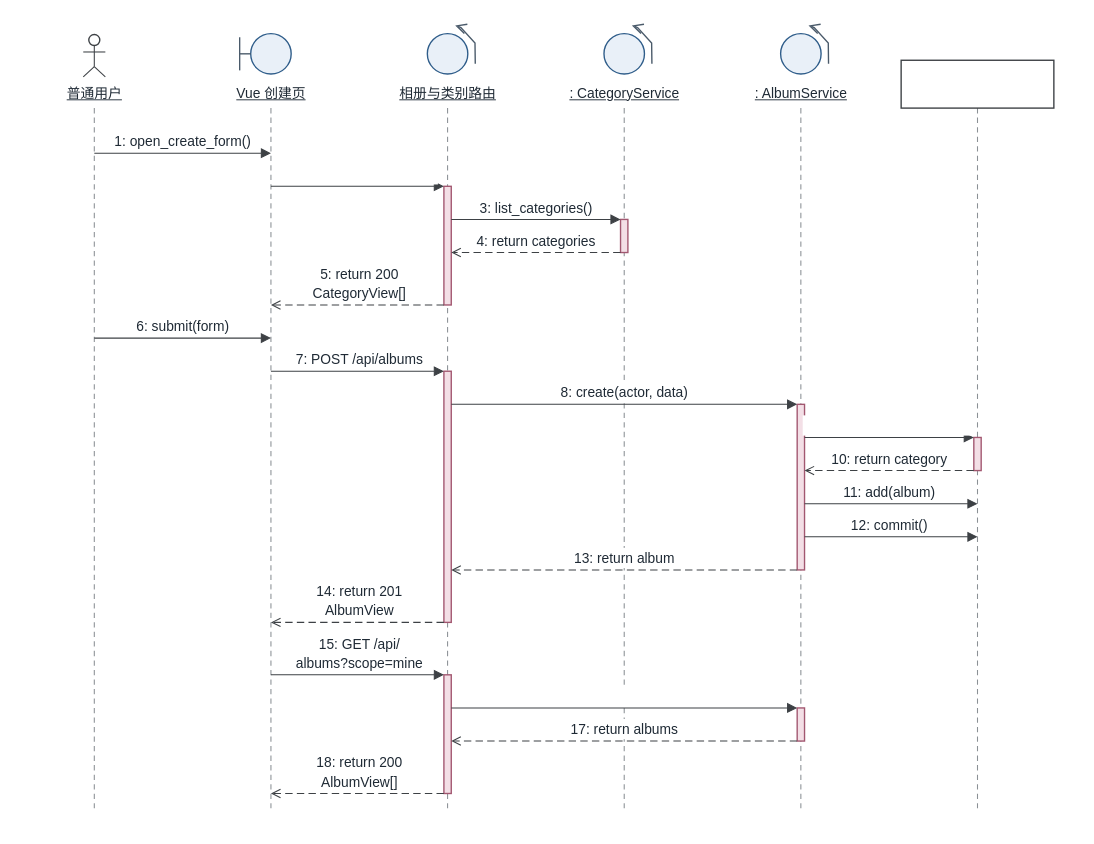
Image size: 1094x844. Some labels were removed from this diagram. Each missing label, with the centre of its shape:
"16: list_albums(actor, scope)" goes at pixel 624 695.
"2: GET /api/categories" goes at pixel 358 174.
"9: scalar(category_by_id)" goes at pixel 888 425.
": Session SQLAlchemy" goes at pixel 977 83.
